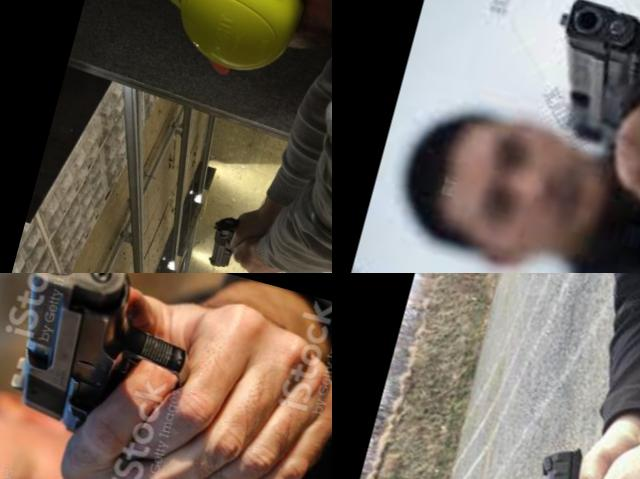handgun: (0, 273, 245, 472), (524, 0, 640, 182), (497, 432, 640, 479), (200, 206, 263, 273)
